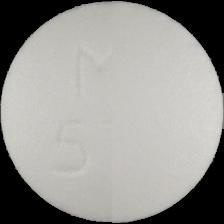53489-591: (0, 0, 224, 224)
